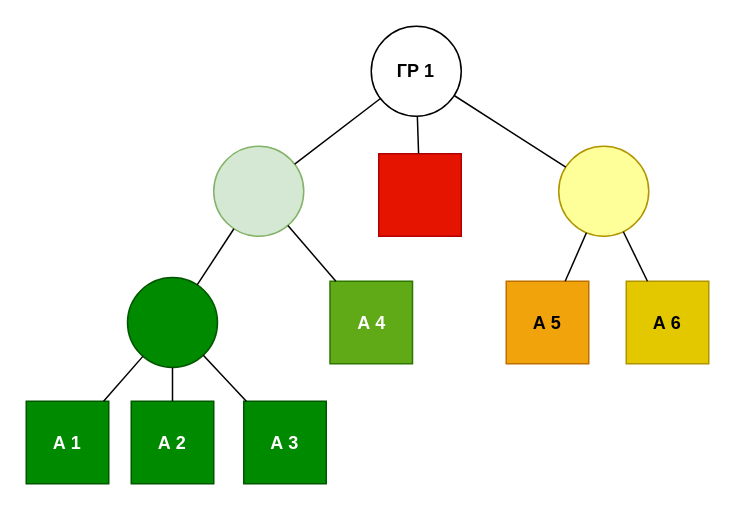
Image size: 735x510. Some labels were removed from this diagram. Here are the shapes that lost their labels. From the top down, the centre of each, then its label:
the point at 258,190: ГР 2
the point at 419,194: А 7
the point at 603,190: ГР 4
the point at 172,322: ГР 3
